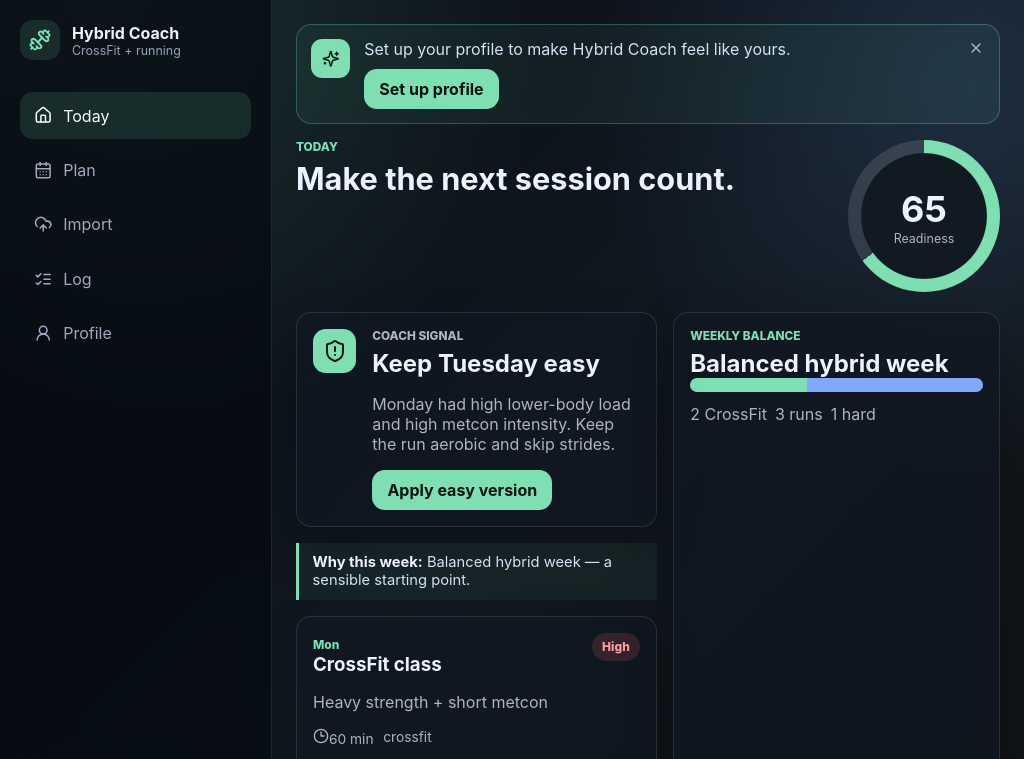
Test: App › navigates to the profile screen from the prompt
This screenshot has width=1024, height=759.
What coordinates should you click on to do the following:
click the button "Set up profile"
I would click on:
 (432, 89)
Its box is [364,69,499,109].
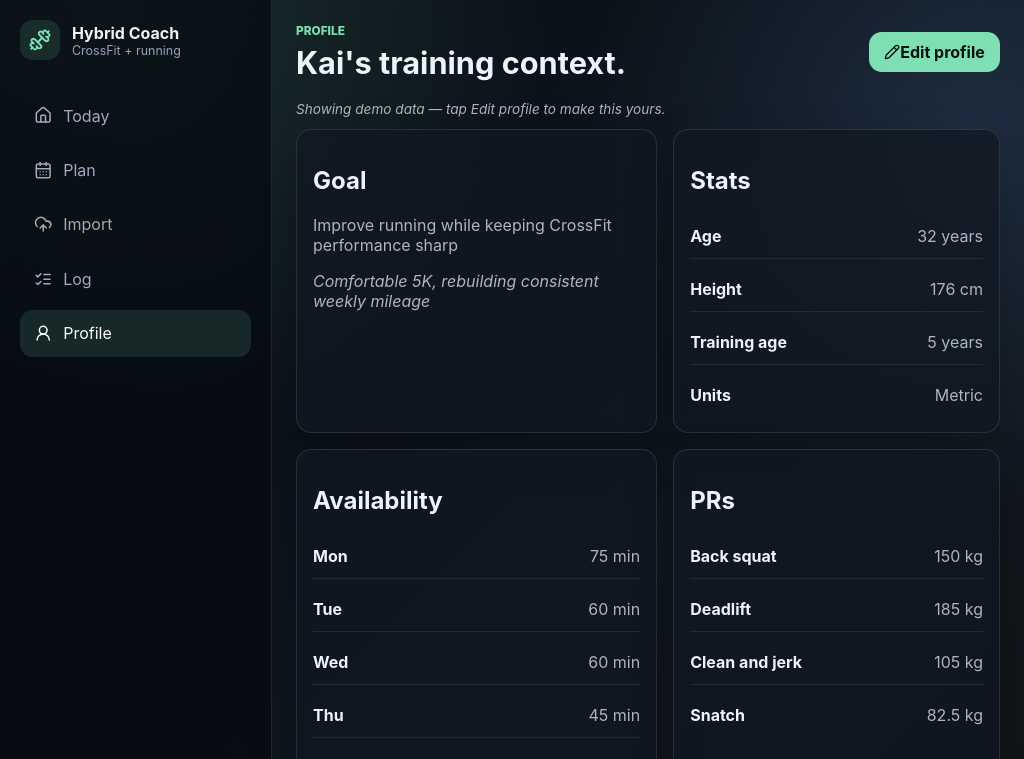
Expected: the heading "Kai's training context." is shown, [296,44,626,81]
